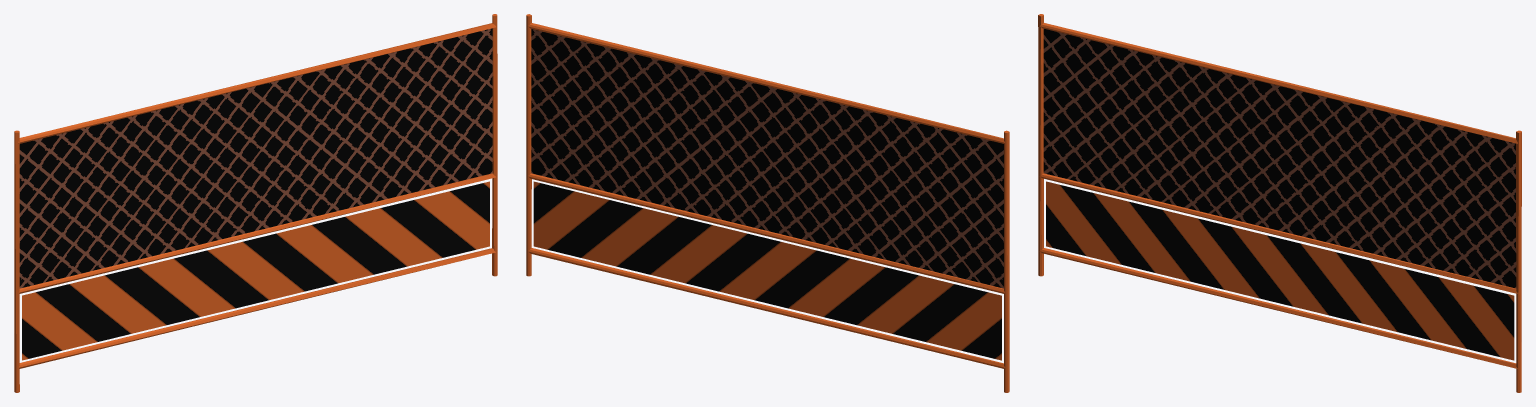
The model's file is fence.fbx.
3 renders of one model, left to right at view 1: azimuth 30°, elevation 25°; view 2: azimuth 150°, elevation 25°; view 3: azimuth 330°, elevation 25°, orthographic.
Visible parts, largest first — view 1: 平面.001, 平面, 円柱.004, 円柱.002, 円柱.003, 円柱, 円柱.001; view 2: 平面.001, 平面, 円柱.004, 円柱.002, 円柱.003, 円柱, 円柱.001; view 3: 平面.001, 平面, 円柱.004, 円柱.002, 円柱.003, 円柱.001, 円柱.
Part boxes in pixels (bbox=[...]): 平面.001: bbox=[19, 28, 492, 288]; 平面: bbox=[22, 181, 489, 360]; 円柱.004: bbox=[18, 23, 495, 143]; 円柱.002: bbox=[18, 248, 495, 368]; 円柱.003: bbox=[18, 173, 495, 293]; 円柱: bbox=[14, 130, 19, 392]; 円柱.001: bbox=[492, 14, 497, 276]; 平面.001: bbox=[531, 29, 1003, 288]; 平面: bbox=[533, 181, 1001, 360]; 円柱.004: bbox=[527, 23, 1004, 143]; 円柱.002: bbox=[528, 248, 1005, 368]; 円柱.003: bbox=[528, 173, 1004, 293]; 円柱: bbox=[1004, 130, 1009, 392]; 円柱.001: bbox=[526, 14, 531, 276]; 平面.001: bbox=[1043, 29, 1516, 288]; 平面: bbox=[1046, 181, 1514, 360]; 円柱.004: bbox=[1040, 23, 1517, 143]; 円柱.002: bbox=[1040, 248, 1517, 368]; 円柱.003: bbox=[1039, 173, 1517, 293]; 円柱.001: bbox=[1516, 130, 1521, 392]; 円柱: bbox=[1038, 14, 1043, 276].
Bounding box in the file's own units: 1010 × 520 × 10.12.
